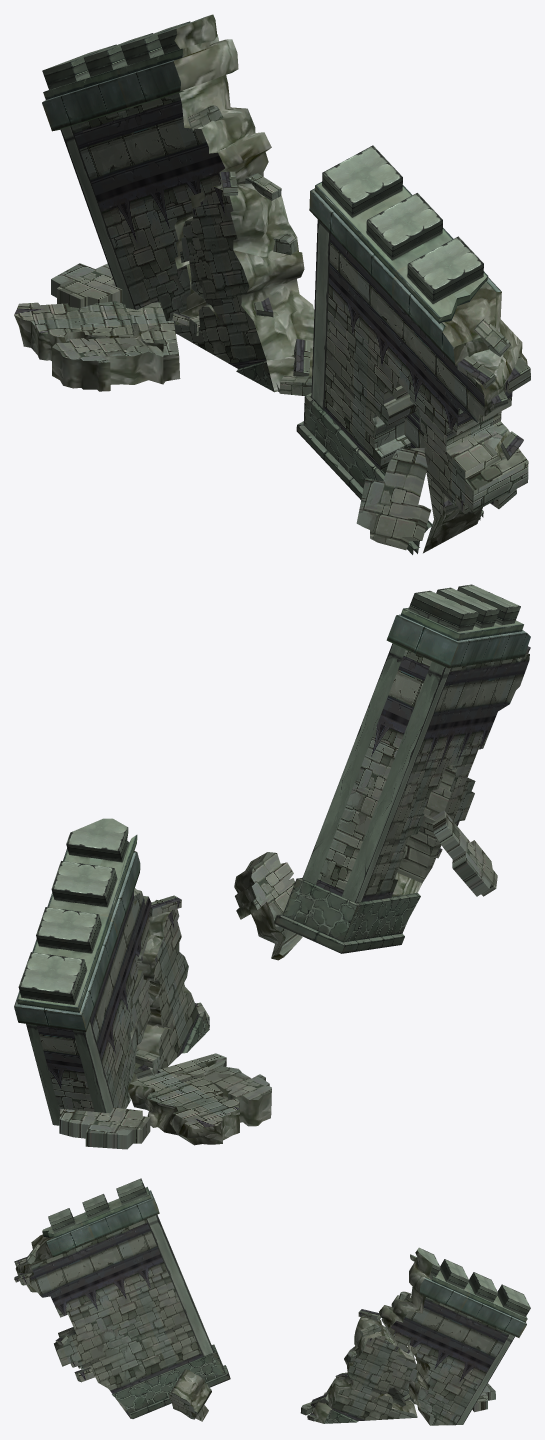
The model's file is 2_YiZhan_ShiQiang_01.FBX.
3 renders of one model, top to bottom at view 1: azimuth 30°, elevation 25°; view 2: azimuth 150°, elevation 25°; view 3: azimuth 270°, elevation 25°, orthographic. The views are drawn at different scales.
Visible parts, largest first — view 1: 2_YiZhan_ShiQiang_02_01, 2_YiZhan_ShiQiang_01_01, 2_YiZhan_ShiQiang_01_02, 2_YiZhan_ShiQiang_01_04, 2_YiZhan_ShiQiang_02_02, 2_YiZhan_ShiQiang_01_05, 2_YiZhan_ShiQiang_01_03; view 2: 2_YiZhan_ShiQiang_02_01, 2_YiZhan_ShiQiang_01_01, 2_YiZhan_ShiQiang_01_02, 2_YiZhan_ShiQiang_01_04, 2_YiZhan_ShiQiang_01_03, 2_YiZhan_ShiQiang_02_02, 2_YiZhan_ShiQiang_01_05; view 3: 2_YiZhan_ShiQiang_02_01, 2_YiZhan_ShiQiang_01_01, 2_YiZhan_ShiQiang_01_02, 2_YiZhan_ShiQiang_01_03.
Part boxes in pixels (x1,y1,x2,y2): 2_YiZhan_ShiQiang_02_01: (296,145,530,554); 2_YiZhan_ShiQiang_01_01: (42,14,271,324); 2_YiZhan_ShiQiang_01_02: (172,171,314,395); 2_YiZhan_ShiQiang_01_04: (14,301,180,381); 2_YiZhan_ShiQiang_02_02: (356,448,430,550); 2_YiZhan_ShiQiang_01_05: (52,337,165,391); 2_YiZhan_ShiQiang_01_03: (51,263,122,308); 2_YiZhan_ShiQiang_02_01: (234,584,530,960); 2_YiZhan_ShiQiang_01_01: (14,818,151,1125); 2_YiZhan_ShiQiang_01_02: (131,895,209,1081); 2_YiZhan_ShiQiang_01_04: (128,1053,239,1145); 2_YiZhan_ShiQiang_01_03: (59,1107,150,1149); 2_YiZhan_ShiQiang_02_02: (432,810,497,896); 2_YiZhan_ShiQiang_01_05: (204,1059,271,1126); 2_YiZhan_ShiQiang_02_01: (14,1178,230,1421); 2_YiZhan_ShiQiang_01_01: (379,1247,530,1425); 2_YiZhan_ShiQiang_01_02: (300,1309,417,1423); 2_YiZhan_ShiQiang_01_03: (472,1383,495,1412).
Bounding box in the file's own units: 534 × 889 × 1913.
